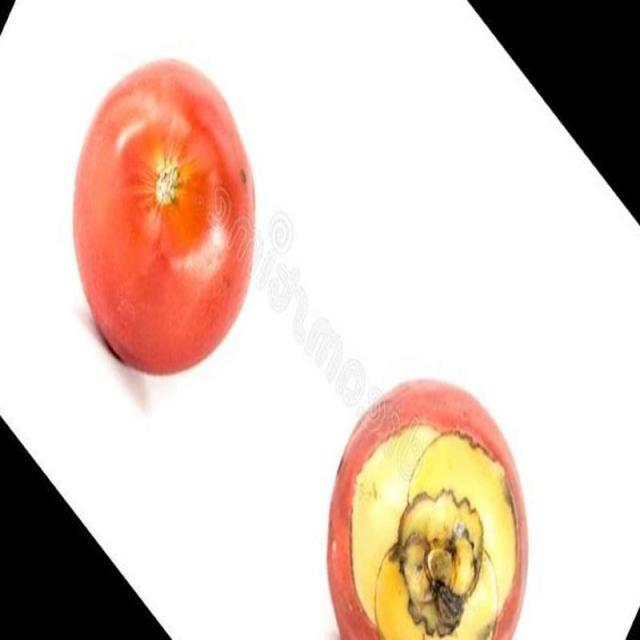good: (74, 61, 254, 372), (328, 384, 526, 639)
